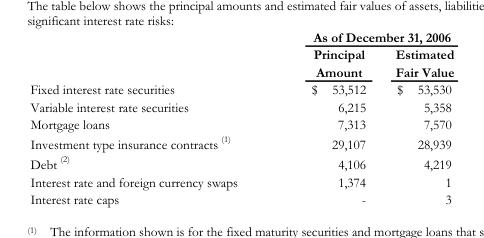table: (29, 29, 453, 206)
table column: (29, 29, 273, 206), (273, 29, 379, 206), (379, 29, 453, 206)
table column header: (29, 29, 453, 80)
table row: (29, 45, 453, 80), (29, 152, 453, 173), (29, 132, 453, 152), (29, 97, 453, 115), (29, 80, 453, 97), (29, 115, 453, 132), (29, 173, 453, 190), (29, 29, 453, 45), (29, 190, 453, 206)
table spanning cell: (273, 29, 453, 45)
